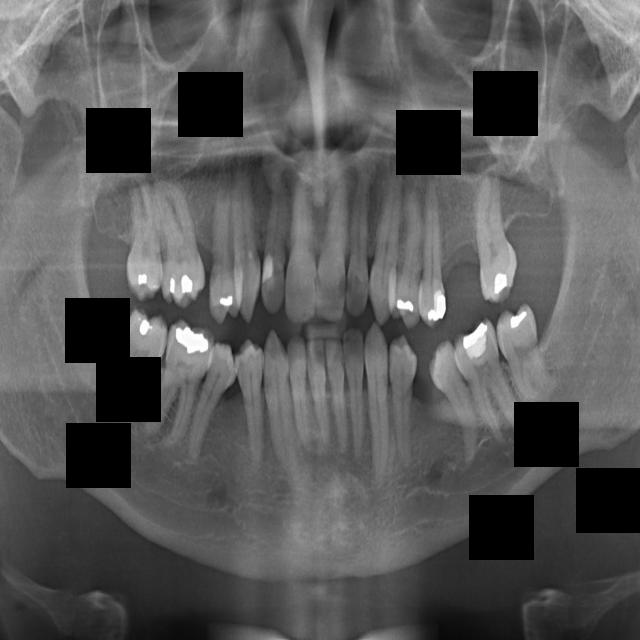AGS Medikal Implant: (345, 160, 372, 322)
AMerOss Implant: (366, 149, 407, 328)
Amalgam filling: (396, 178, 424, 331)
Anthogyr Implant: (421, 172, 452, 331)
BioHorizons Implant: (468, 149, 522, 306)
Blue Sky Bio Implant: (487, 298, 566, 416)
Camlog Implant: (447, 311, 531, 453)
Caries: (125, 160, 163, 303)
Composite filling: (419, 335, 491, 469)
Cowellmedi Implant: (386, 331, 419, 470)
Crown: (363, 319, 393, 489)
DENTSPLY Implant: (342, 326, 363, 462)
Dentatus Implant: (324, 336, 353, 459)
Dentis Implant: (305, 337, 331, 450)
Dentium Implant: (285, 332, 316, 462)
Euroteknika Implant: (258, 326, 300, 493)
Filling: (234, 335, 265, 466)
Frontier Implant: (177, 338, 247, 475)
Hiossen Implant: (151, 169, 208, 312)
Implant: (89, 299, 179, 423)
Implant Direct: (135, 313, 219, 451)
Mandible: (200, 143, 239, 330)
Maxilla: (227, 124, 265, 327)
Megagen Implant: (259, 146, 291, 318)
Neodent Implant: (284, 143, 321, 325)
Neoss Implant: (315, 155, 351, 323)
